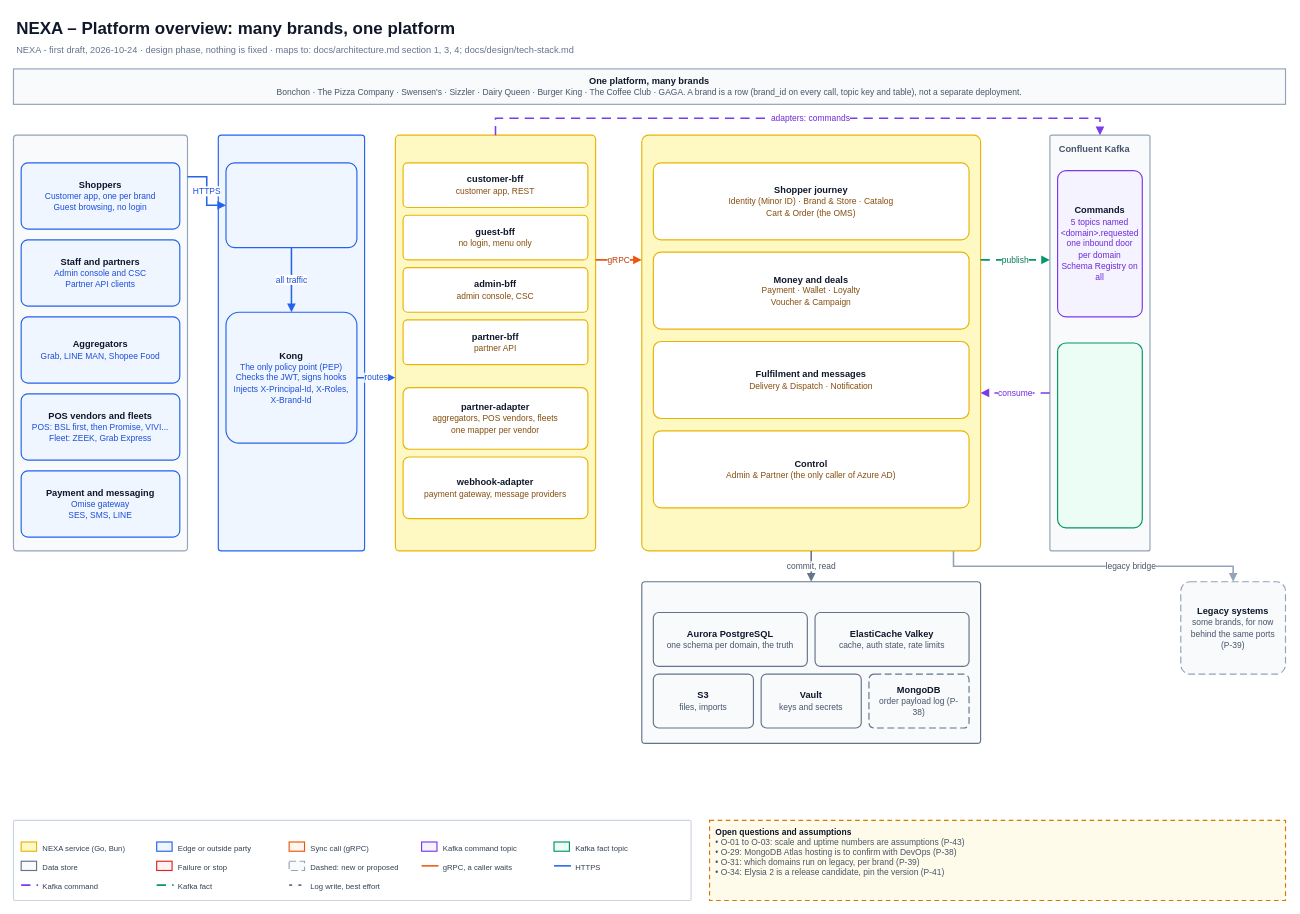
Image size: 1300x914. Some labels were removed from this diagram. Each missing label, with the box of its shape:
Channels and outside parties: (13, 134, 188, 551)
Cloudflare WAF, bots, TLS, CDN: (225, 162, 357, 248)
Core: 11 domains, Go, hexagonal: (641, 134, 981, 551)
Data and secrets (DevOps): (641, 581, 981, 744)
Edge (DevOps): (217, 134, 365, 551)
Edge apps: Bun, Elysia v2 / Hono: (394, 134, 596, 551)
Facts 7 topics: .changed, .published, .events what already happened: (1057, 342, 1143, 528)
Legend: (13, 820, 691, 901)
